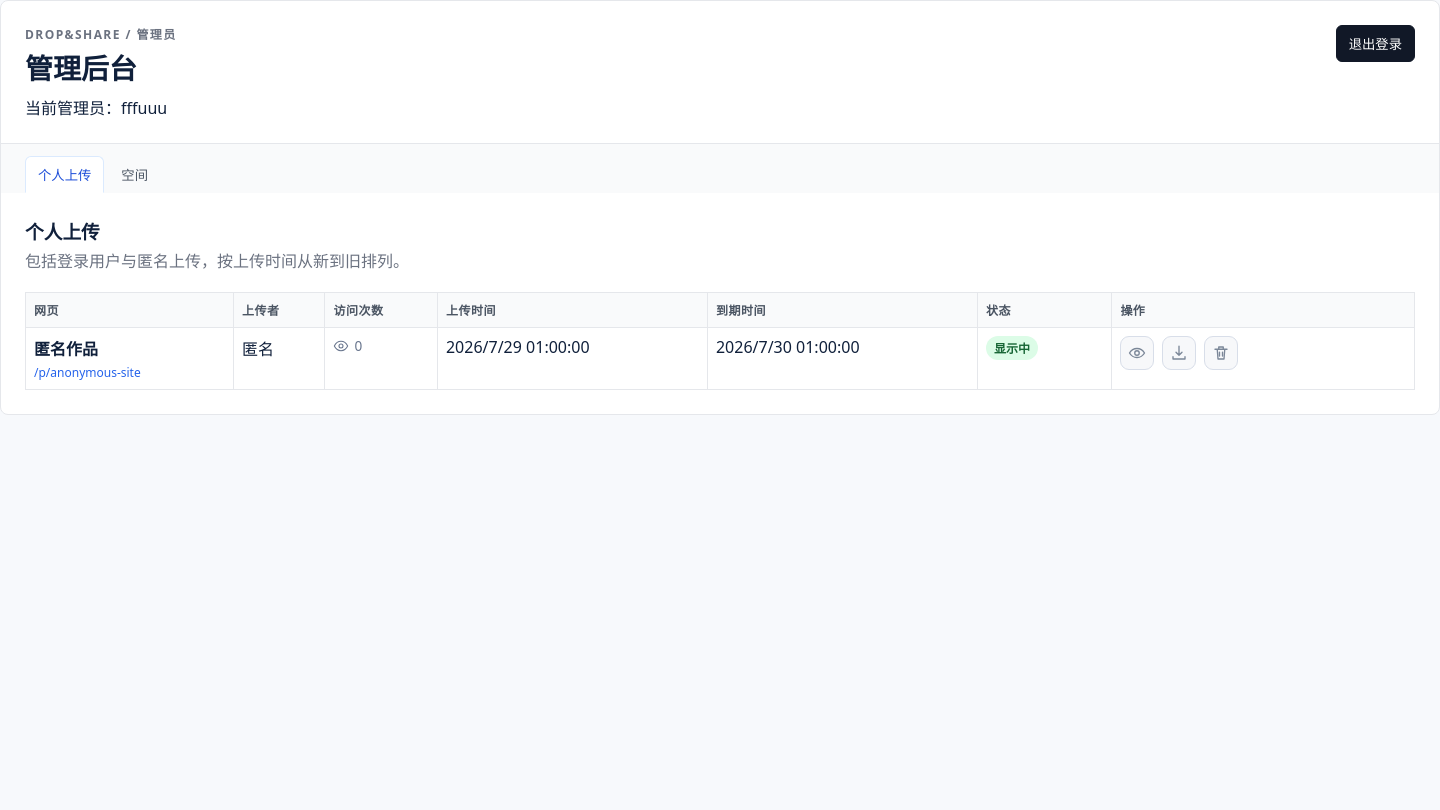
Test: AdminPage › shows a stronger warning before deleting a space
Click the button "空间" at coordinates (135, 174), box [108,156,161,193]
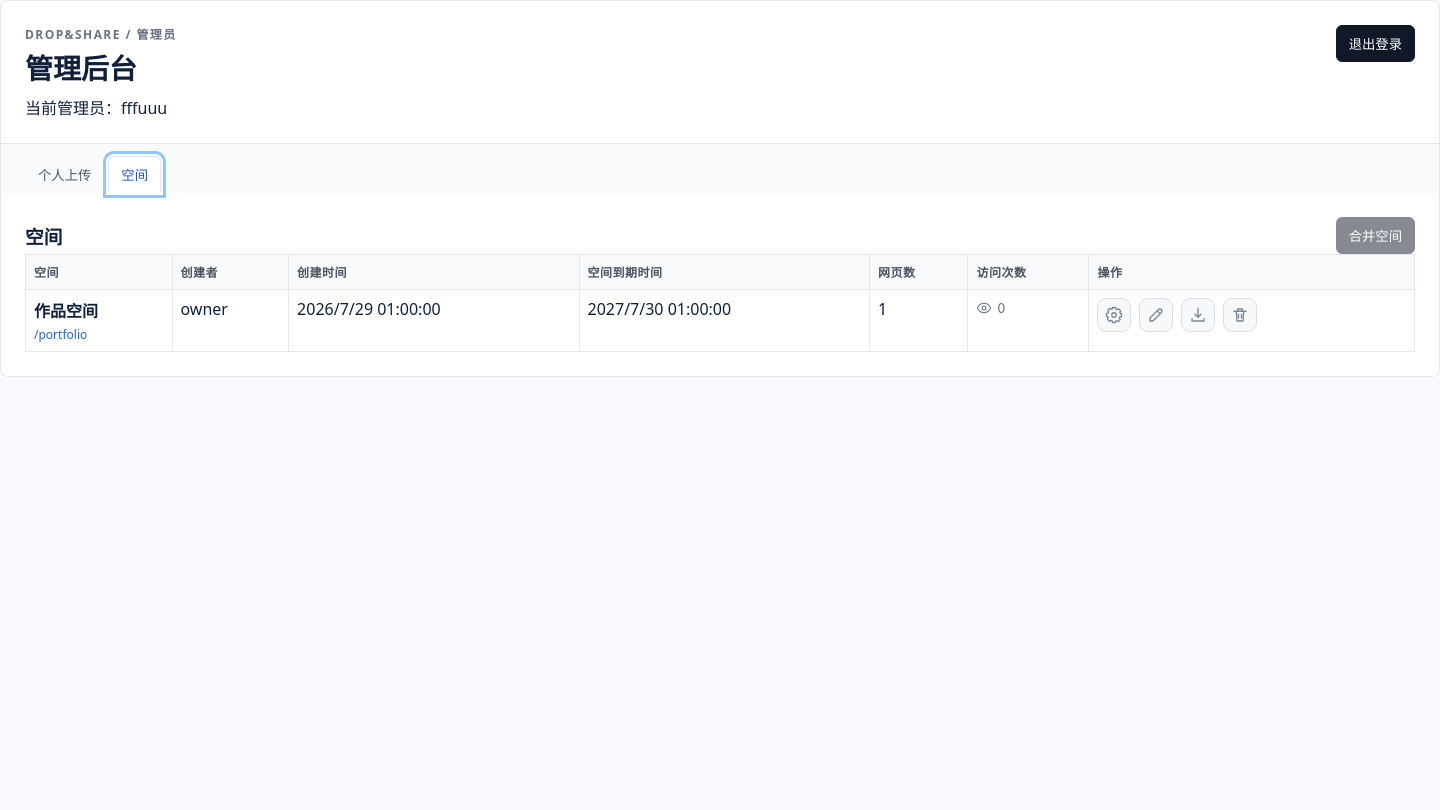
Click the button named "永久删除空间作品空间" at coordinates (1240, 315), box [1224,298,1258,332]
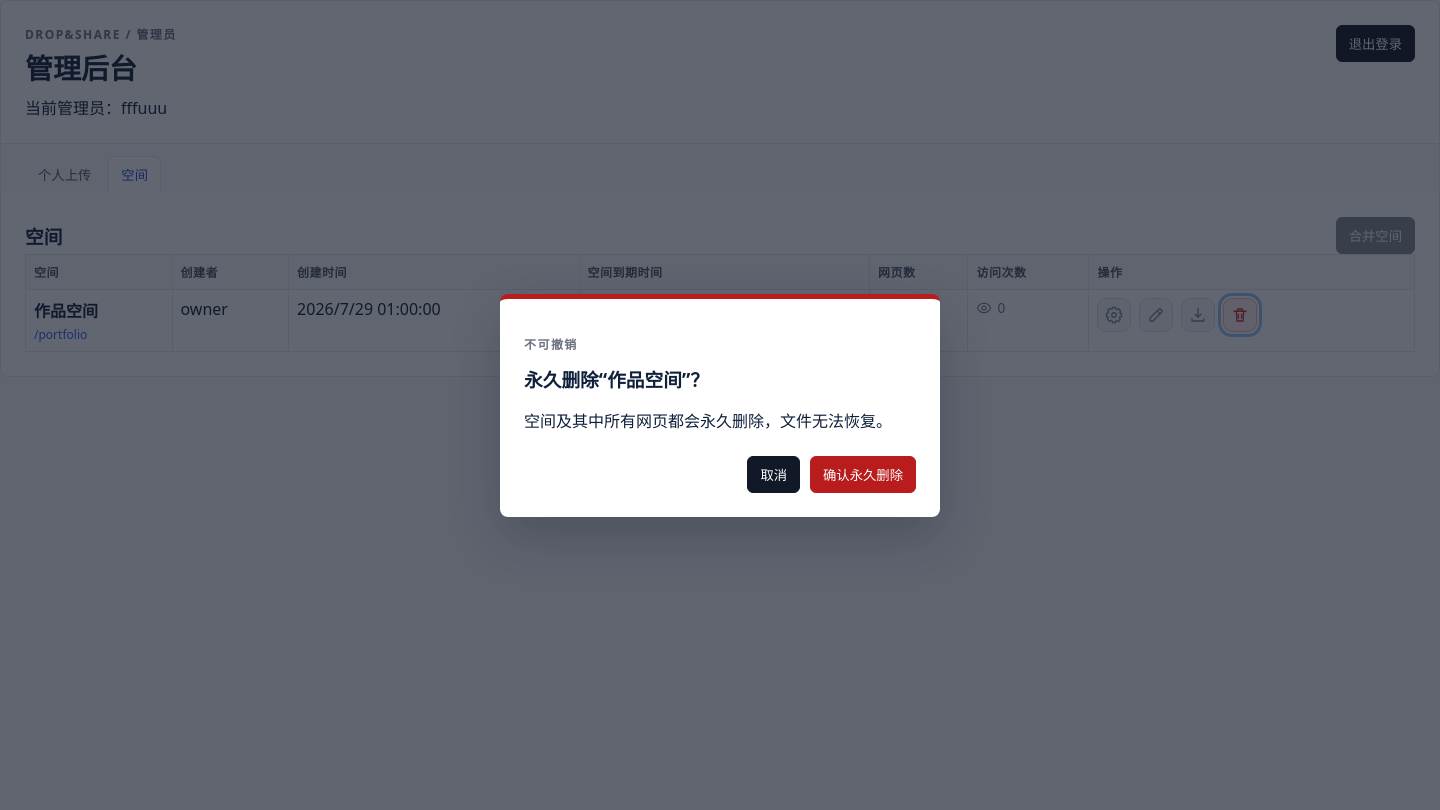
Now the text "空间及其中所有网页都会永久删除，文件无法恢复。" is shown, box [524,408,916,432]
